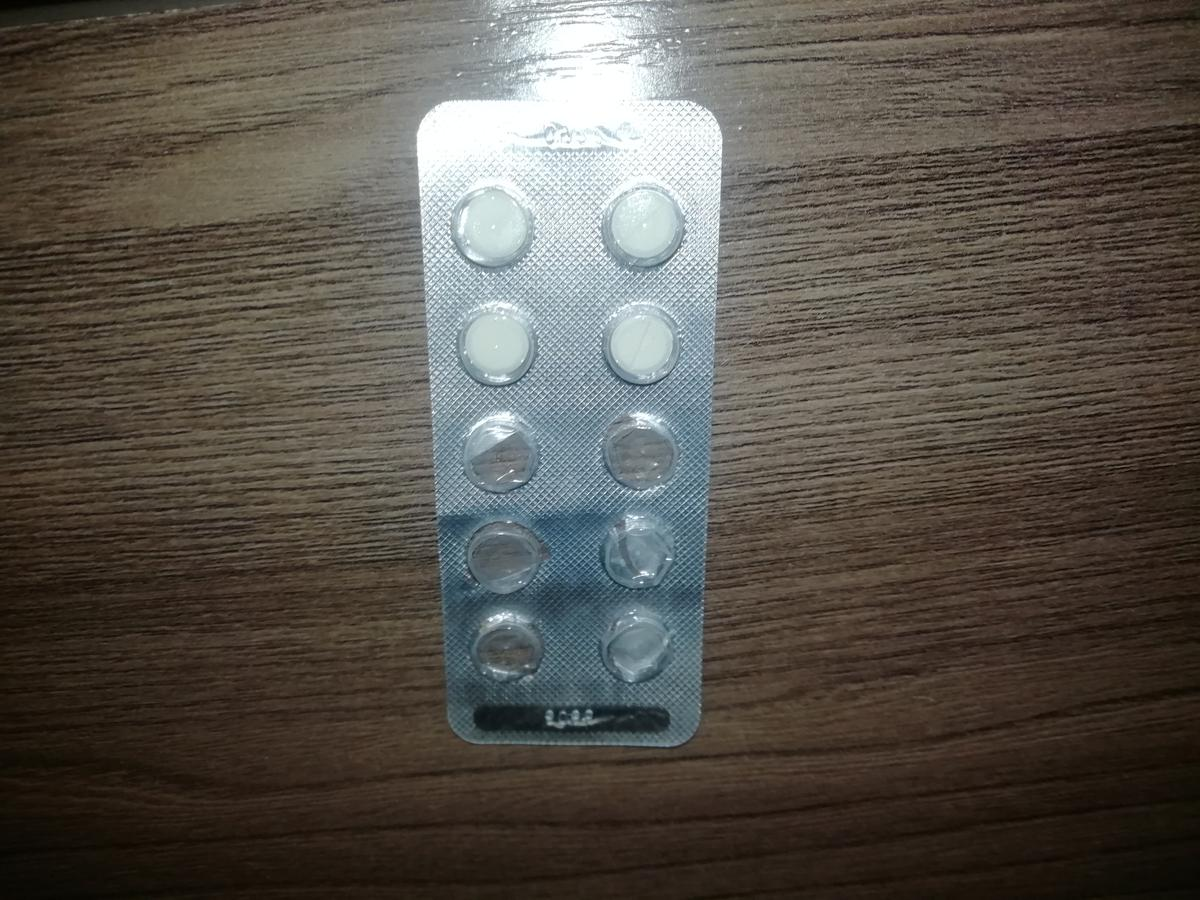tablet: (457, 180, 538, 274), (606, 186, 687, 280), (458, 291, 539, 385), (602, 300, 683, 394)
